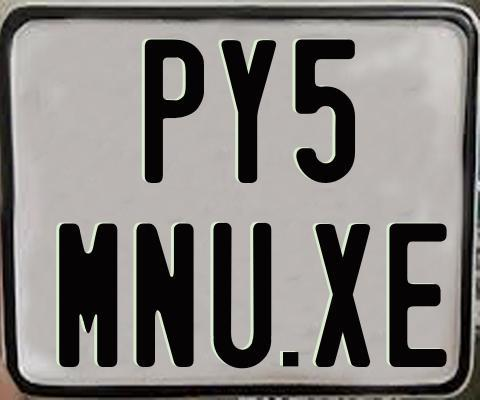5: (292, 36, 357, 184)
E: (386, 223, 449, 368)
M: (57, 222, 121, 372)
N: (133, 222, 195, 369)
P: (143, 39, 206, 188)
U: (213, 220, 274, 368)
X: (313, 221, 369, 364)
Y: (219, 37, 280, 184)
